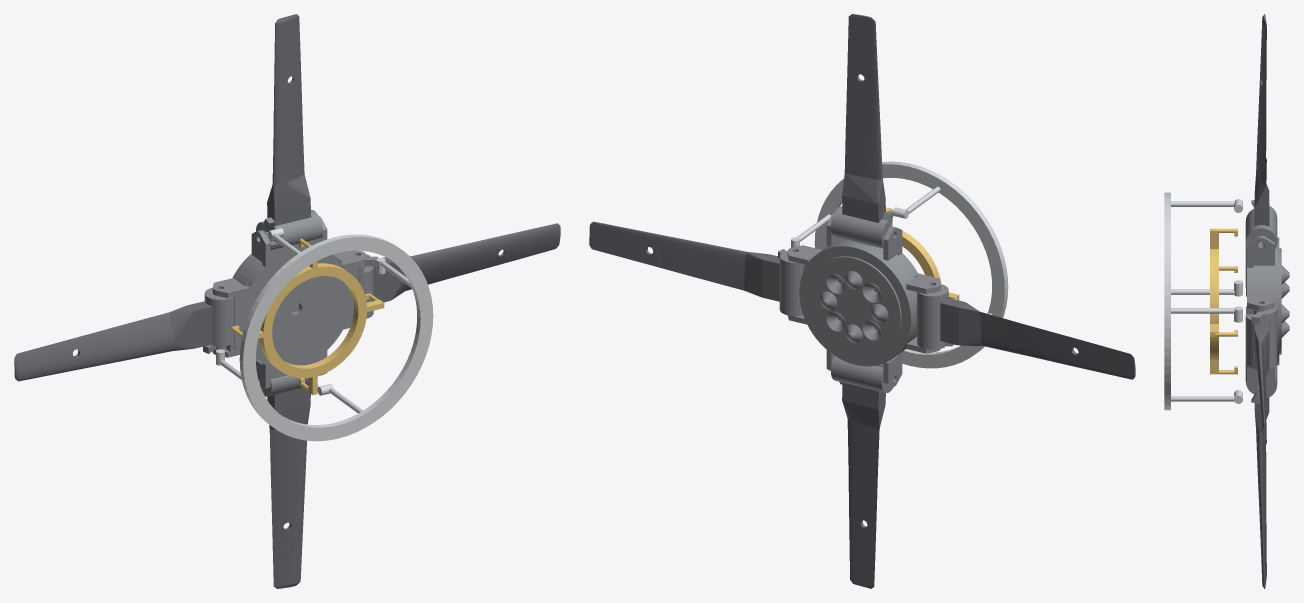
File: cephalo2_rotor_propeller.glb
The picture shows the model from 3 angles, left to right: view 1: azimuth 30°, elevation 25°; view 2: azimuth 150°, elevation 25°; view 3: azimuth 270°, elevation 25°; orthographic projection.
Visible parts, largest first — view 1: belly rotor|blades, scabbard cage|rods, belly rotor|hub, scabbard cage|elevator, belly rotor|barrels; view 2: belly rotor|blades, belly rotor|hub, scabbard cage|rods, belly rotor|barrels, scabbard cage|elevator; view 3: belly rotor|blades, belly rotor|hub, scabbard cage|rods, belly rotor|barrels, scabbard cage|elevator.
Part boxes in pixels (<box>): belly rotor|blades: <box>14,14,560,588</box>; scabbard cage|rods: <box>216,228,433,441</box>; belly rotor|hub: <box>212,216,365,389</box>; scabbard cage|elevator: <box>231,238,384,394</box>; belly rotor|barrels: <box>203,210,378,396</box>; belly rotor|blades: <box>589,14,1135,588</box>; belly rotor|hub: <box>787,213,940,386</box>; scabbard cage|rods: <box>791,161,1008,368</box>; belly rotor|barrels: <box>778,206,953,392</box>; scabbard cage|elevator: <box>886,208,959,300</box>; belly rotor|blades: <box>1254,14,1269,588</box>; belly rotor|hub: <box>1247,235,1289,394</box>; scabbard cage|rods: <box>1164,192,1242,410</box>; belly rotor|barrels: <box>1245,200,1277,403</box>; scabbard cage|elevator: <box>1210,228,1237,374</box>.
Bounding box in the file's own units: 0.556 × 0.556 × 0.1115.
